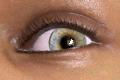eye: (50, 28, 86, 51)
